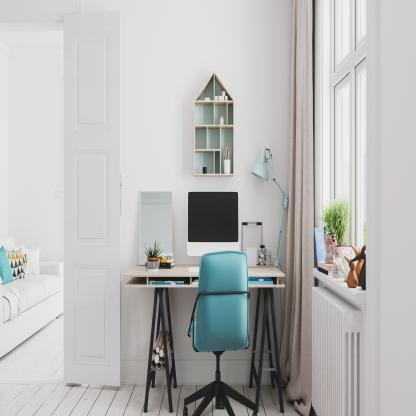chair: (178, 249, 261, 416)
door: (60, 0, 124, 384)
light: (244, 141, 293, 274)
sofa: (0, 230, 65, 372)
table: (123, 263, 299, 415)
